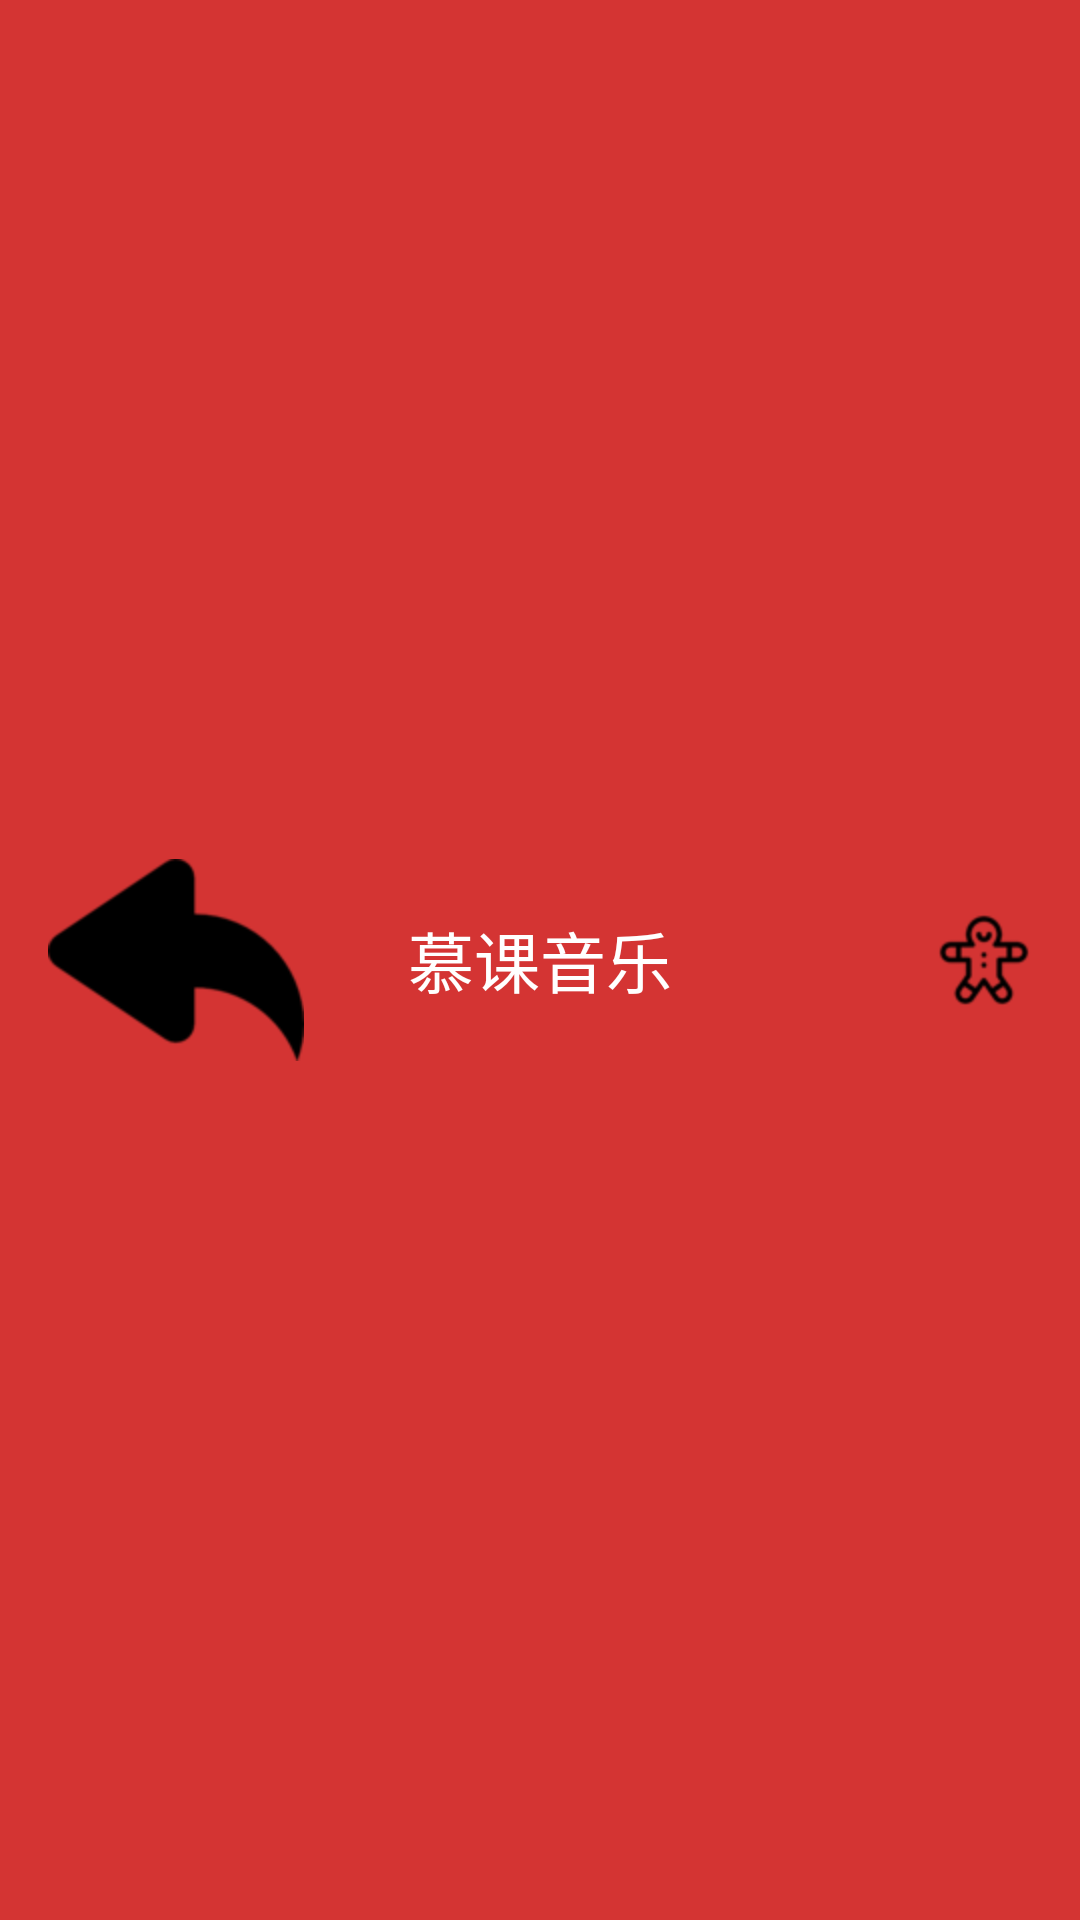

Named icons in this screenshot (1080*1920) and their centers, [x,y]:
back: [176,960]
